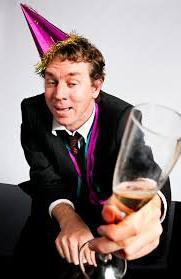Drunk: (47, 67, 89, 121)
